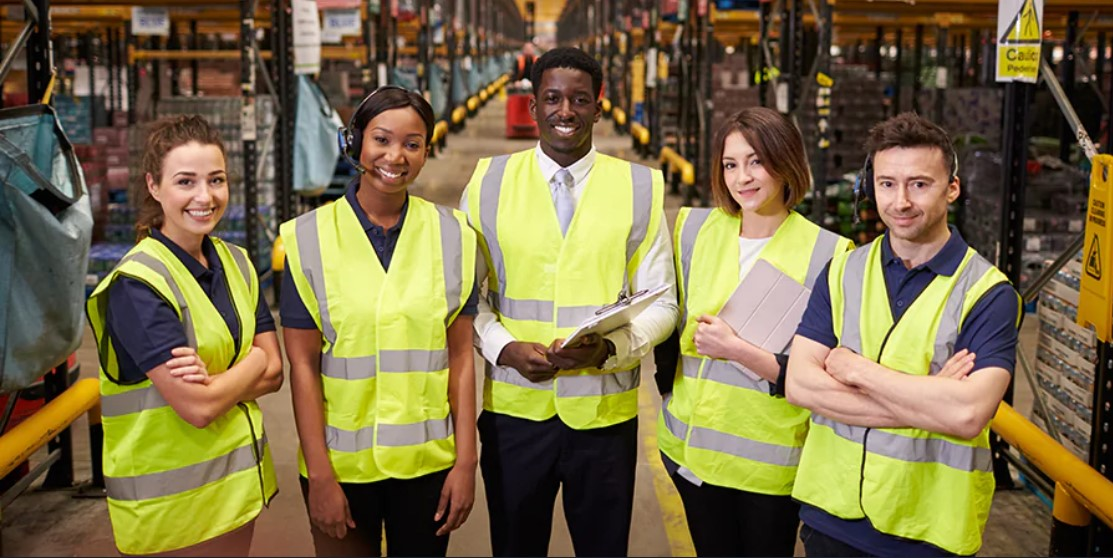worker: (809, 124, 1011, 553), (87, 120, 278, 552), (286, 91, 468, 481), (470, 59, 659, 426), (664, 109, 834, 492)
